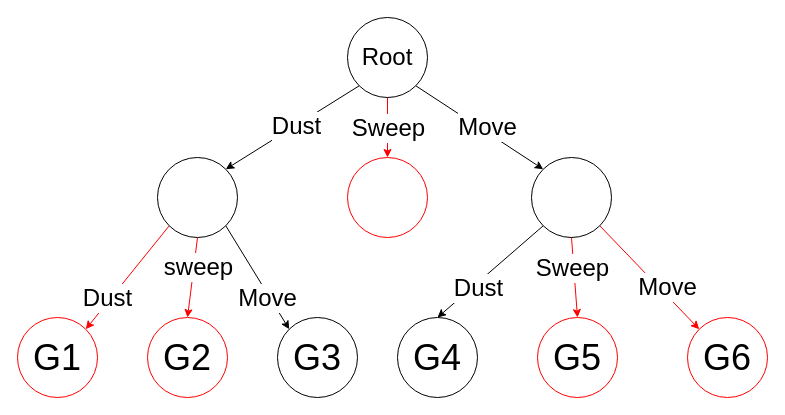
Image size: 785x415. Some labels were removed from this diagram. Each missing label, with the centre of its shape:
C1: point 197,197
C2: point 387,197
C3: point 571,197
